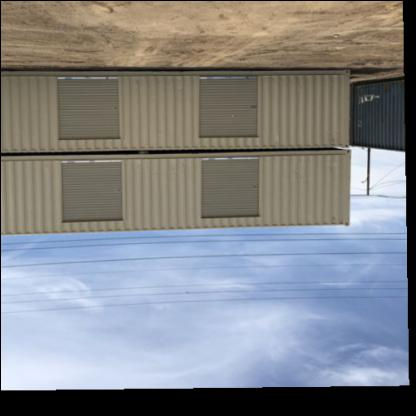Damage: (266, 73, 312, 86), (127, 74, 148, 93), (244, 101, 266, 111), (110, 104, 124, 116), (247, 180, 263, 190)
